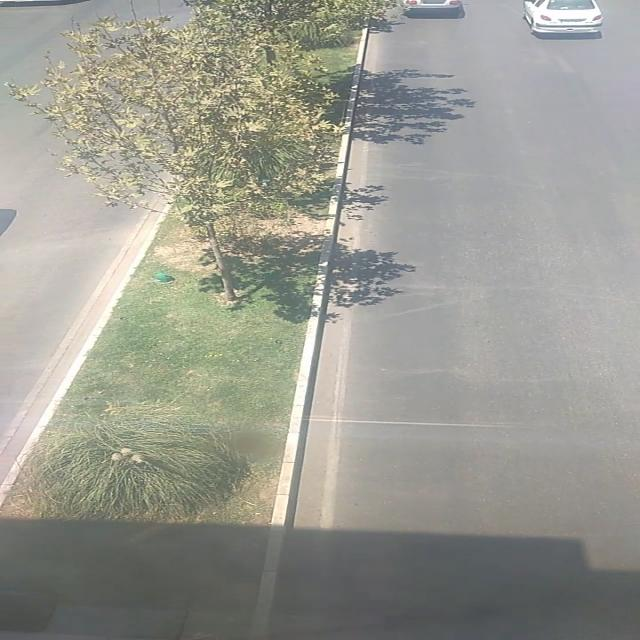car: (519, 1, 607, 36), (402, 0, 466, 18)
